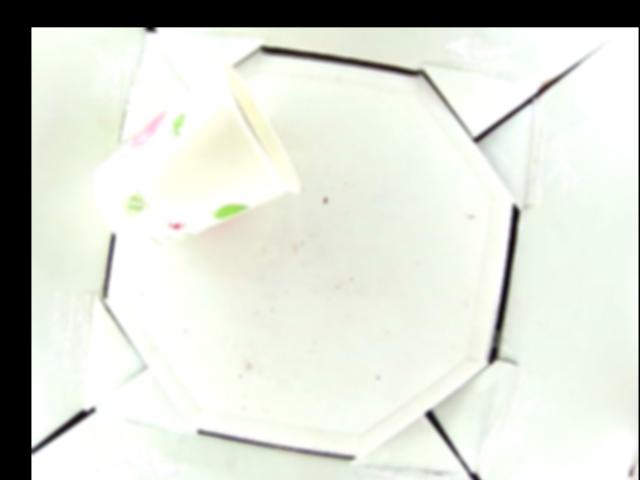Cup: (88, 62, 305, 248)
